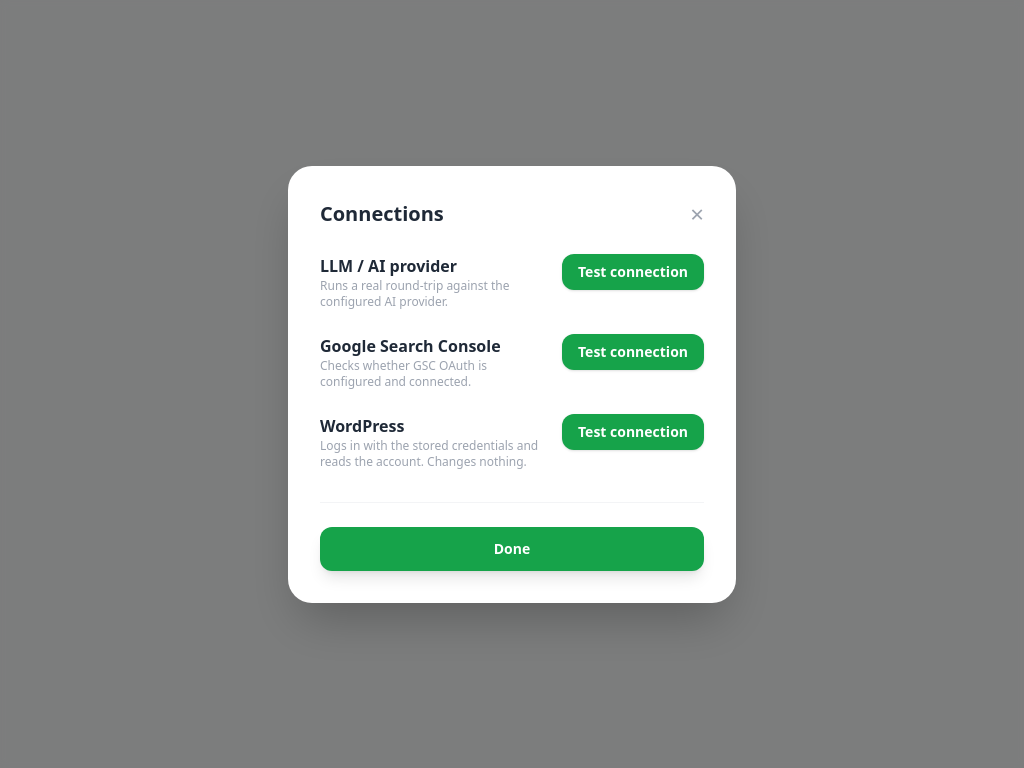
Test: ConnectionsPanel › LLM test renders failure state
Click the button "Test connection" in the row of "LLM / AI provider" at (633, 272), box [562, 254, 704, 290]
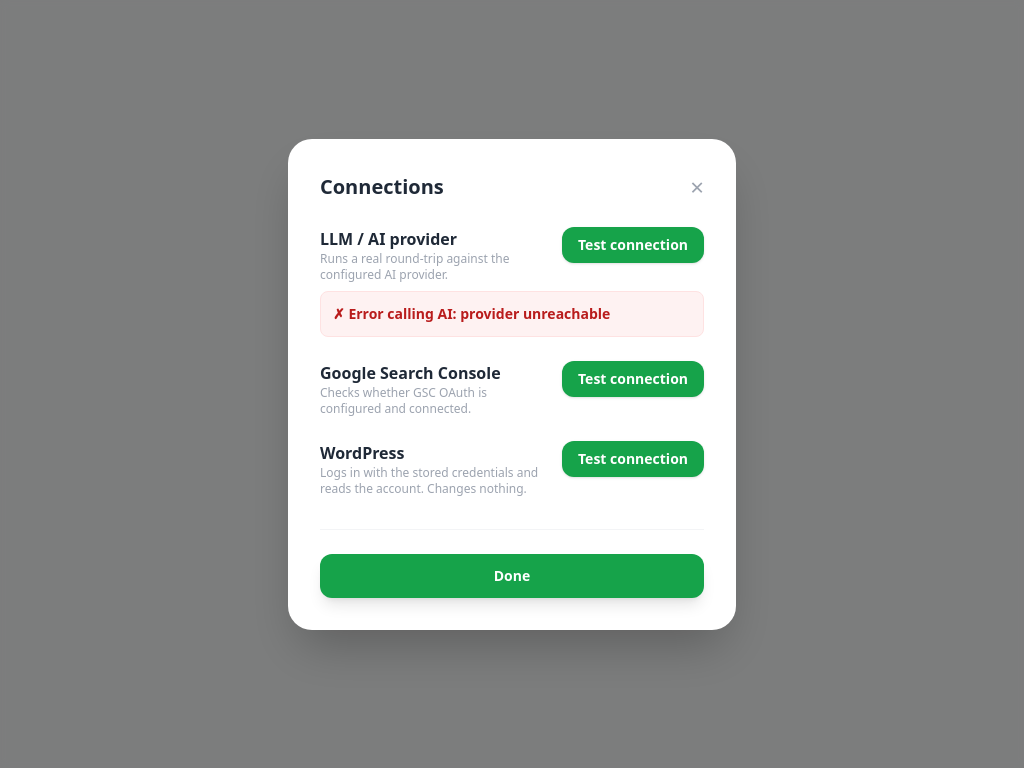
Now the text "✗ Error calling AI: provider unreachable" is shown, box [333, 304, 610, 322]
